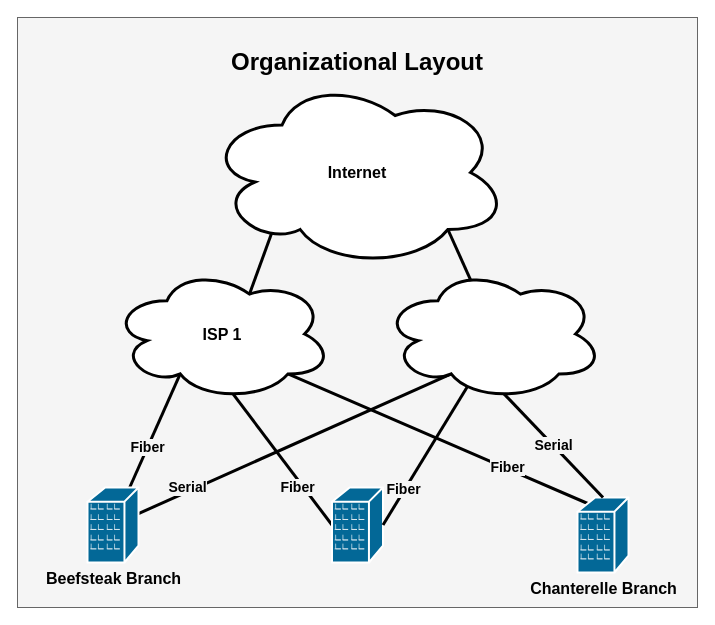
Some shapes in this 715 by 625 pixel diagram are drawn without their labels. Each missing label, with the box of its shape:
ISP 2: (381, 266, 604, 402)
Truffle Branch: (330, 486, 384, 563)
